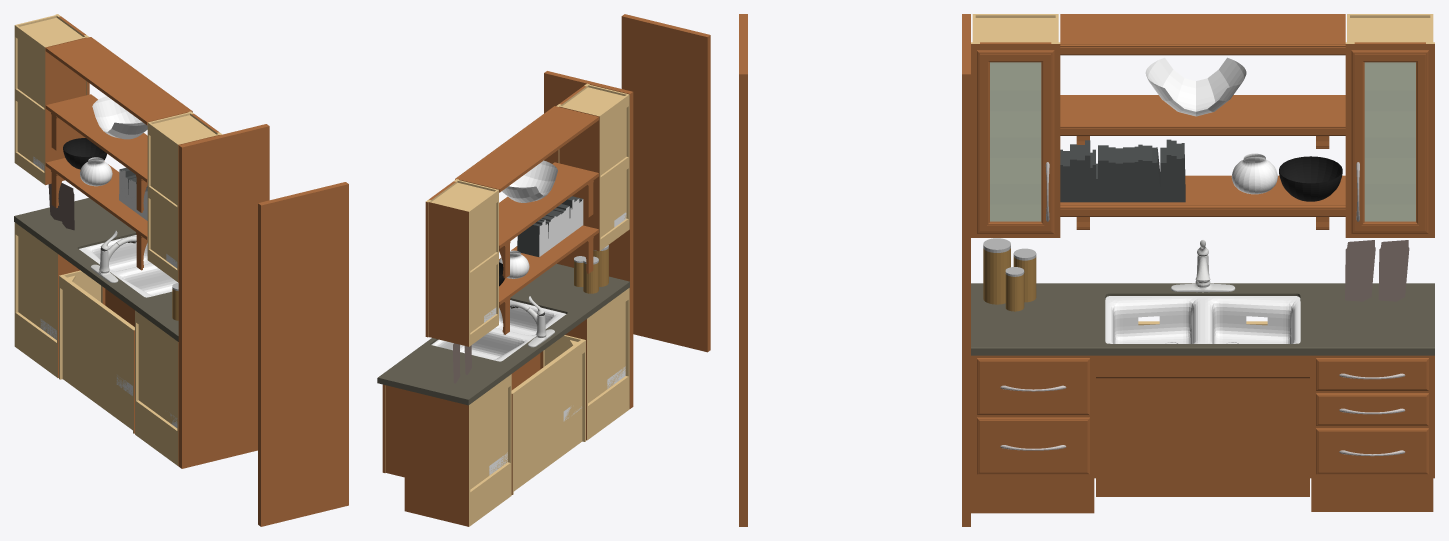
Rendered from kitchen_left.dae.
3 renders of one model, left to right at view 1: azimuth 30°, elevation 25°; view 2: azimuth 150°, elevation 25°; view 3: azimuth 270°, elevation 25°, orthographic. The views are drawn at different scales.
Parts seen in each view (by area): view 1: skpaaMBbu (×3), Component_13 (×3), Component_131, Component_24 (×2), Component_97 (×2), Component_34 (×2), Component_98, Component_95 (×6), Component_18, Component_23 (×3), Component_94 (×2), Component_4 (+8 smaller); view 2: skpaaMBbu (×3), Component_13 (×3), Component_99 (×2), Component_131, Component_65, Component_24 (×2), Component_97 (×2), Component_34 (×2), Component_18, Component_9 (×2), Component_66, Component_23 (×3) (+11 smaller); view 3: skpaaMBbu (×4), Component_137, Component_13 (×3), Component_110 (×2), Component_122 (×2), Component_50 (×2), Component_81 (×3), Component_14 (×3), Component_18, Component_9, Component_17, Component_94 (×2) (+13 smaller).
Part boxes in pixels (box(x1,y1,x2,y2)): skpaaMBbu (×3): box(14, 124, 348, 526); Component_13 (×3): box(45, 37, 190, 239); Component_131: box(62, 275, 134, 430); Component_24 (×2): box(18, 236, 177, 424); Component_97 (×2): box(17, 39, 177, 265); Component_34 (×2): box(15, 312, 177, 465); Component_98: box(45, 37, 86, 184); Component_95 (×6): box(15, 25, 178, 281); Component_18: box(79, 235, 177, 297); Component_23 (×3): box(15, 223, 177, 352); Component_94 (×2): box(20, 17, 215, 143); Component_4: box(92, 96, 147, 139); skpaaMBbu (×3): box(377, 14, 710, 408); Component_13 (×3): box(457, 106, 598, 305); Component_99 (×2): box(428, 106, 599, 346); Component_131: box(511, 340, 582, 491); Component_65: box(404, 390, 468, 492); Component_24 (×2): box(470, 302, 625, 489); Component_97 (×2): box(470, 108, 626, 332); Component_34 (×2): box(470, 376, 628, 525); Component_18: box(431, 300, 565, 361); Component_9 (×2): box(517, 196, 583, 256); Component_66: box(404, 477, 468, 526); Component_23 (×3): box(470, 288, 628, 414); skpaaMBbu (×4): box(739, 14, 1434, 526); Component_137: box(1102, 378, 1303, 493); Component_13 (×3): box(1060, 14, 1345, 205); Component_110 (×2): box(990, 63, 1040, 220); Component_122 (×2): box(1365, 63, 1414, 220); Component_50 (×2): box(980, 361, 1086, 472); Component_81 (×3): box(1319, 361, 1425, 472); Component_14 (×3): box(1060, 44, 1345, 216); Component_18: box(1107, 296, 1300, 343); Component_9: box(1060, 139, 1185, 202); Component_17: box(1096, 355, 1309, 376); Component_94 (×2): box(975, 18, 1430, 42).
Size of the model in its own units: 26.13 by 117 by 84.
